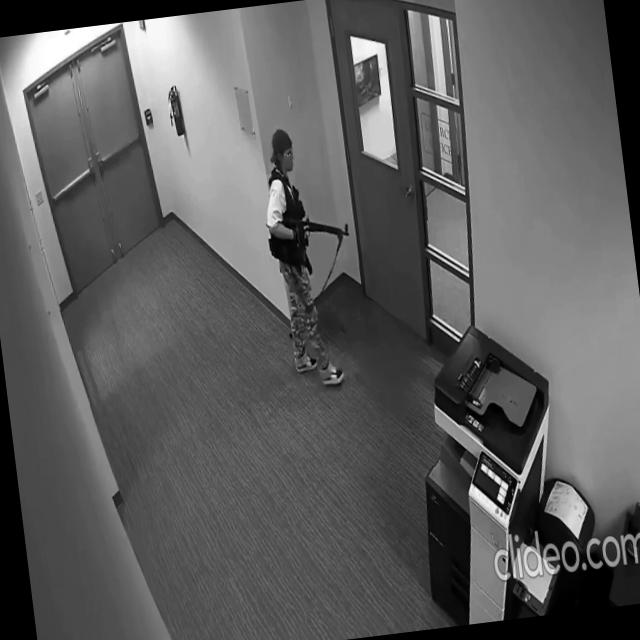gun: (282, 204, 352, 253)
person with a gun: (255, 120, 368, 391)
